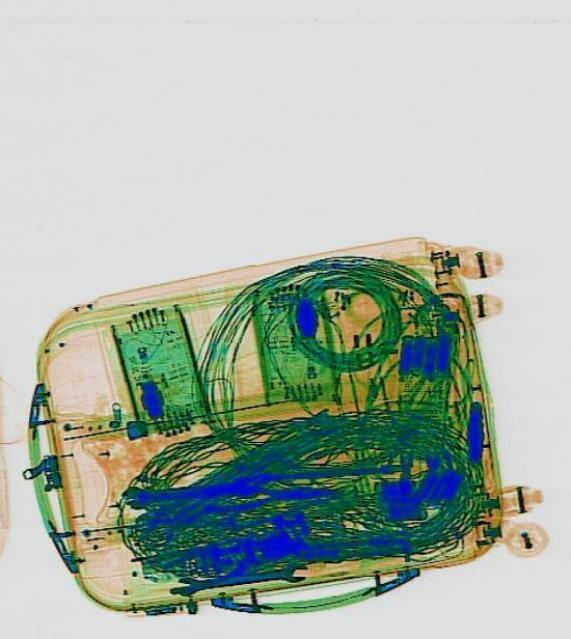Wrench: (120, 470, 258, 510), (166, 560, 307, 597)
